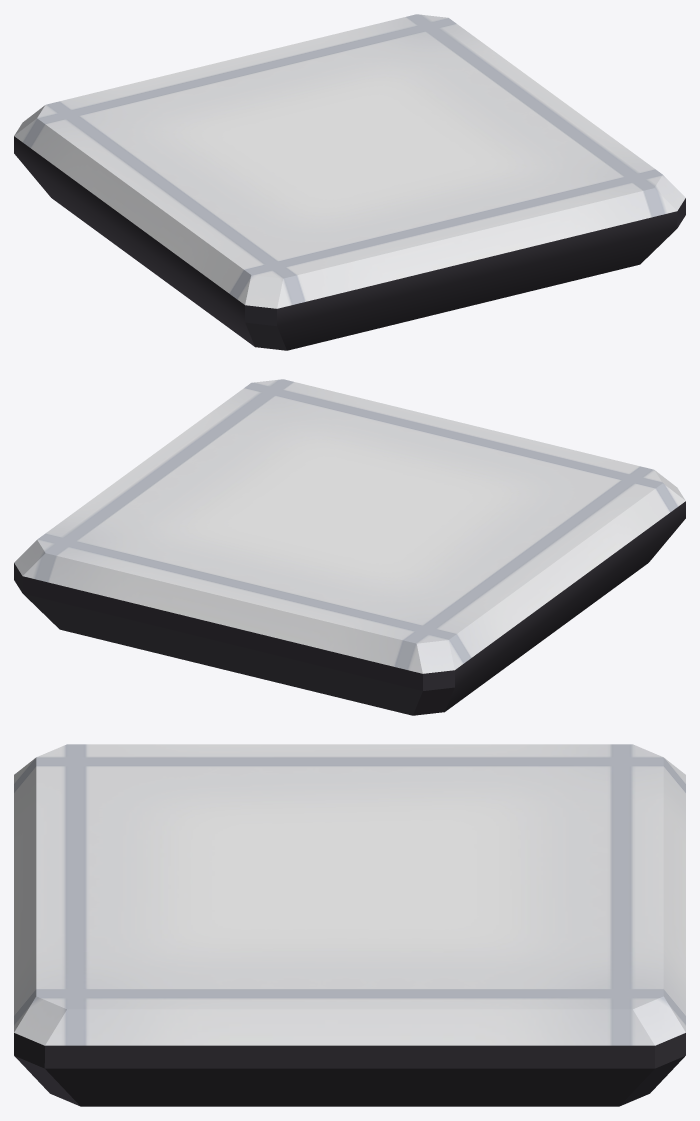
File: Floating_Platform_(TempTextures).fbx
3 renders of one model, top to bottom at view 1: azimuth 30°, elevation 25°; view 2: azimuth 150°, elevation 25°; view 3: azimuth 270°, elevation 25°, orthographic. The views are drawn at different scales.
Parts seen in each view (by area): view 1: pCube1; view 2: pCube1; view 3: pCube1.
Boxes of the visible parts, x1,y1,x2,y2 form: pCube1: (14,14,685,350); pCube1: (14,379,685,715); pCube1: (14,744,685,1106).
Bounding box in the file's own units: 4 × 0.7647 × 4.
Materials: 3 (3 with a texture image).
